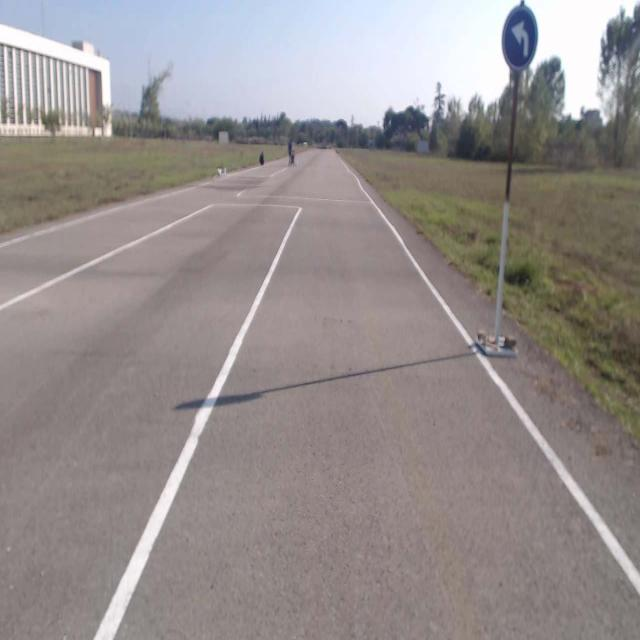sol: (502, 6, 538, 67)
